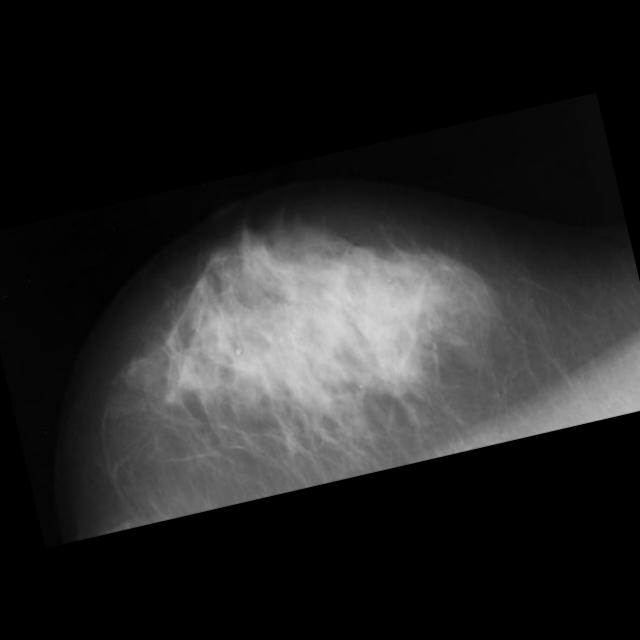SPIC: (352, 324, 444, 415)
